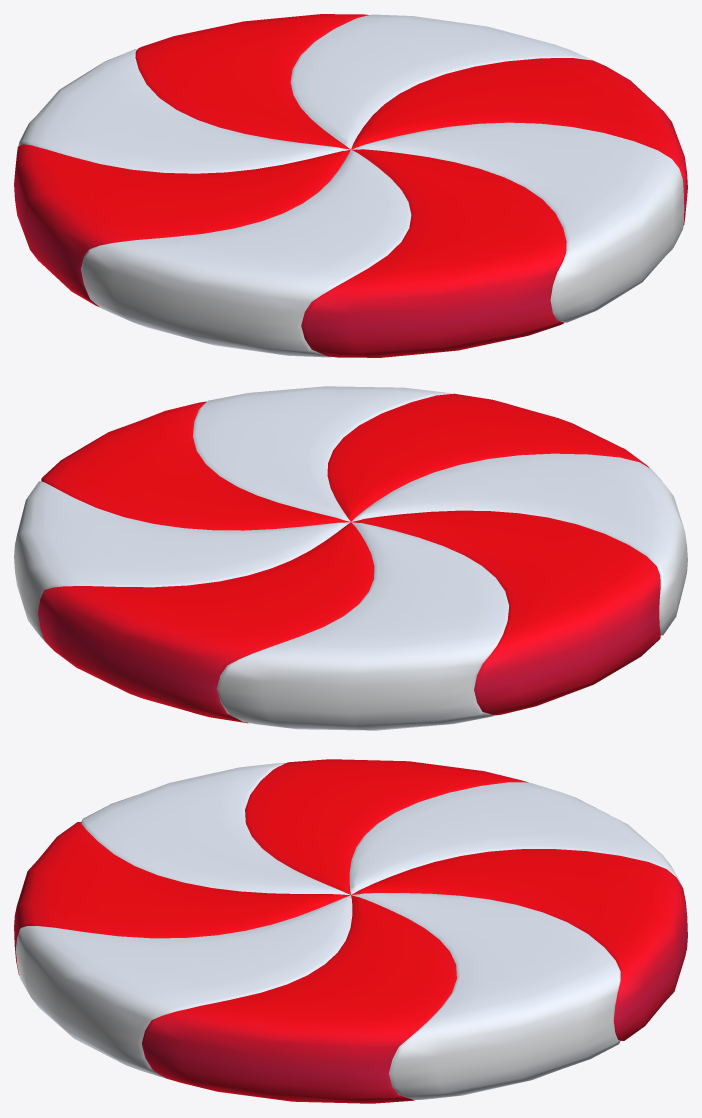
Rendered from obstacle_2_001.glb.
3 renders of one model, top to bottom at view 1: azimuth 30°, elevation 25°; view 2: azimuth 150°, elevation 25°; view 3: azimuth 270°, elevation 25°, orthographic.
Parts seen in each view (by area): view 1: obstacle_2_001; view 2: obstacle_2_001; view 3: obstacle_2_001.
Part boxes in pixels (left/top/right/bottom): obstacle_2_001: left=14, top=14, right=687, bottom=357; obstacle_2_001: left=14, top=386, right=687, bottom=730; obstacle_2_001: left=14, top=759, right=687, bottom=1103.
Size of the model in its own units: 9.27 by 1.25 by 9.27.
1 material, 1 textured.
